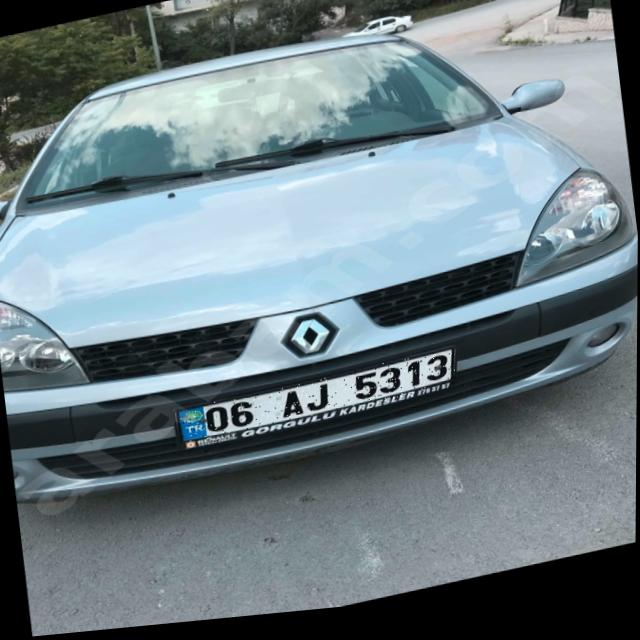license_plate: (176, 356, 458, 448)
